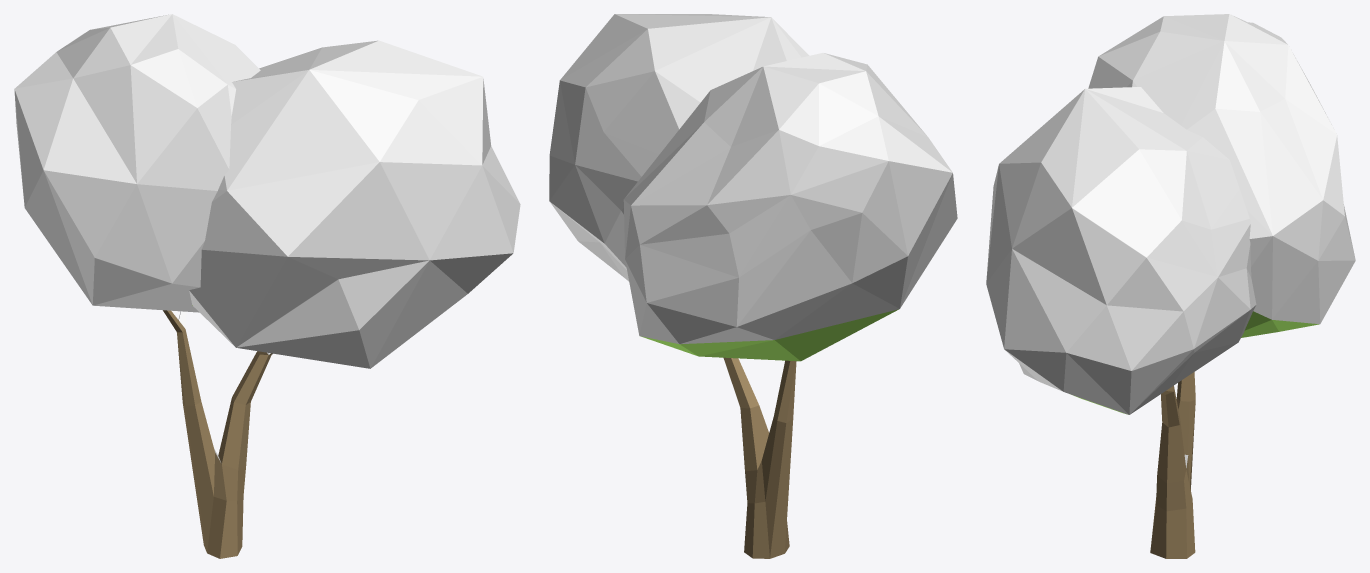
File: Apple_Tree_m_Snow_07_LOD.fbx
The picture shows the model from 3 angles, left to right: view 1: azimuth 30°, elevation 25°; view 2: azimuth 150°, elevation 25°; view 3: azimuth 270°, elevation 25°; orthographic projection. The views are drawn at different scales.
Parts seen in each view (by area): view 1: Apple_Tree_m_Snow_07_LOD0; view 2: Apple_Tree_m_Snow_07_LOD0; view 3: Apple_Tree_m_Snow_07_LOD0.
Part boxes in pixels (x1,y1,x2,y2): Apple_Tree_m_Snow_07_LOD0: (14,14,520,558); Apple_Tree_m_Snow_07_LOD0: (549,14,957,558); Apple_Tree_m_Snow_07_LOD0: (986,14,1355,558).
Size of what is drawn, in the model's own units: 564 by 657 by 441.
